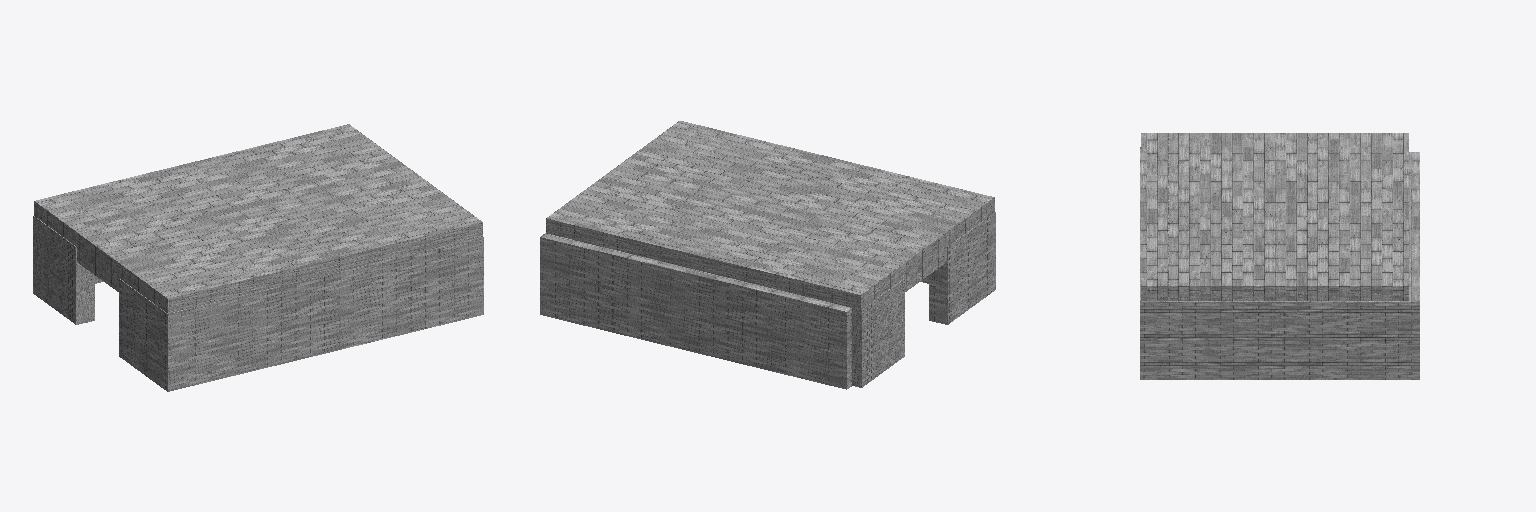
3 renders of one model, left to right at view 1: azimuth 30°, elevation 25°; view 2: azimuth 150°, elevation 25°; view 3: azimuth 270°, elevation 25°, orthographic.
Parts seen in each view (by area): view 1: Wall003, Wall001, Wall002; view 2: Wall003, Wall001, Wall002; view 3: Wall003, Wall001.
Part boxes in pixels (x1,y1,x2,y2): Wall003: (34,124,482,313); Wall001: (95,237,483,391); Wall002: (33,216,94,324); Wall003: (546,121,994,324); Wall001: (540,212,995,389); Wall002: (852,279,904,387); Wall003: (1141,133,1408,300); Wall001: (1140,147,1419,379).
Size of the model in its own units: 85 by 23.81 by 65.
Materials: 1 (1 with a texture image).